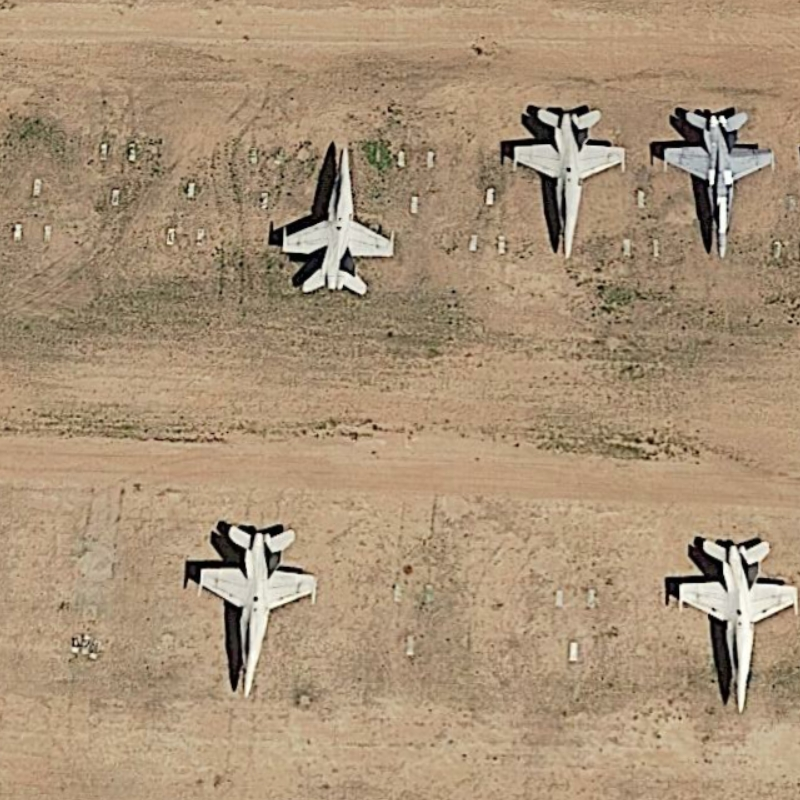A16: (183, 510, 328, 705), (671, 526, 800, 724), (496, 89, 634, 264), (270, 135, 411, 306), (651, 97, 782, 266)
